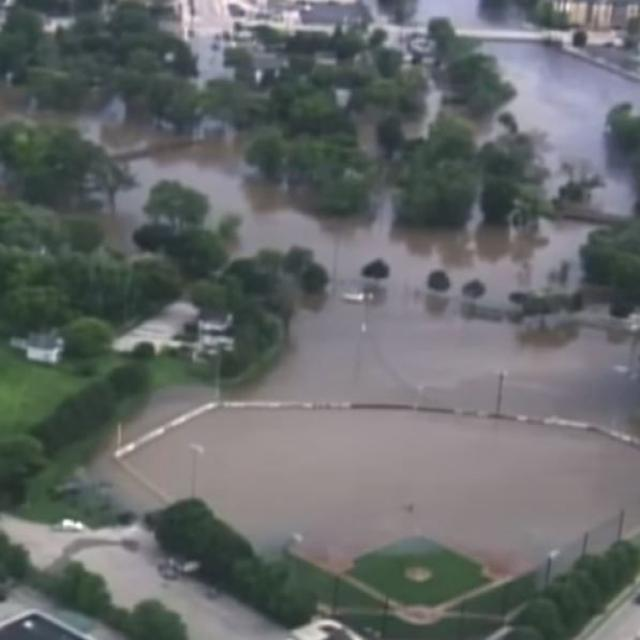flooded_areas: (28, 117, 639, 572)
